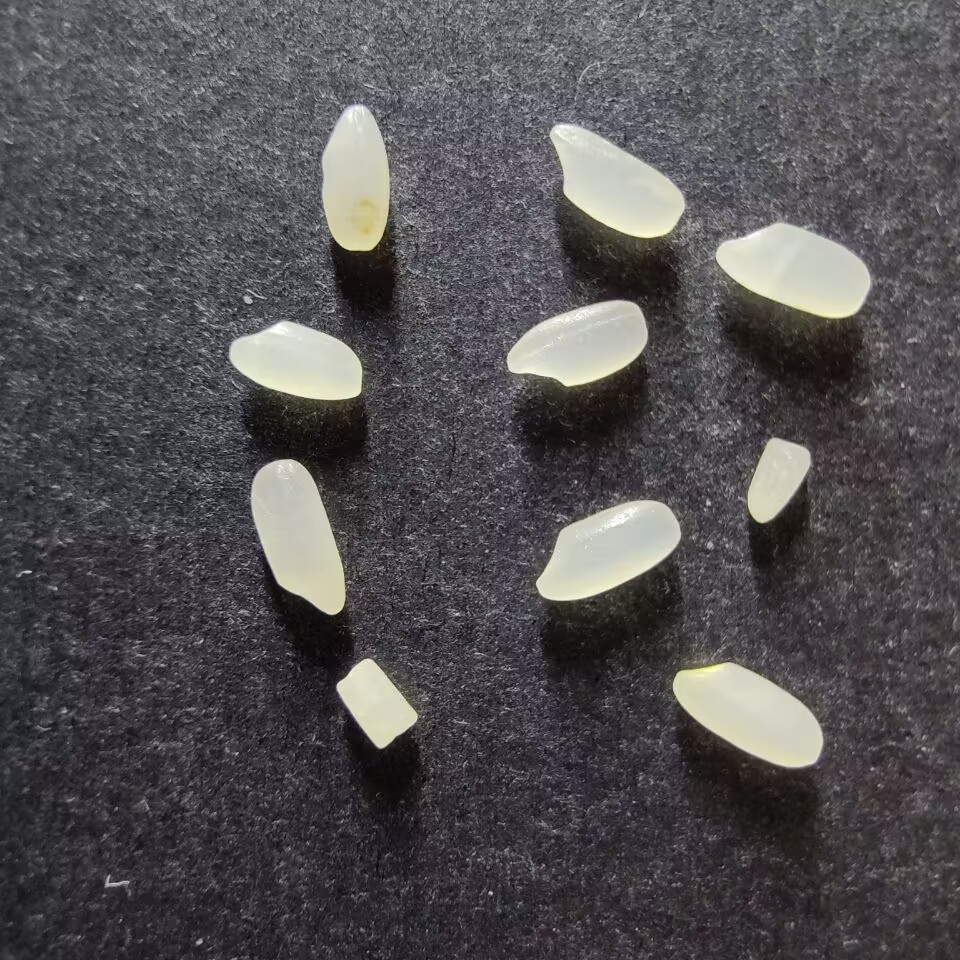broken: (334, 657, 418, 748), (746, 435, 813, 523)
rice: (671, 661, 823, 769), (548, 124, 687, 238), (249, 459, 346, 616), (715, 221, 871, 318), (535, 499, 680, 601), (505, 299, 647, 388), (227, 320, 362, 401), (319, 104, 389, 252)
